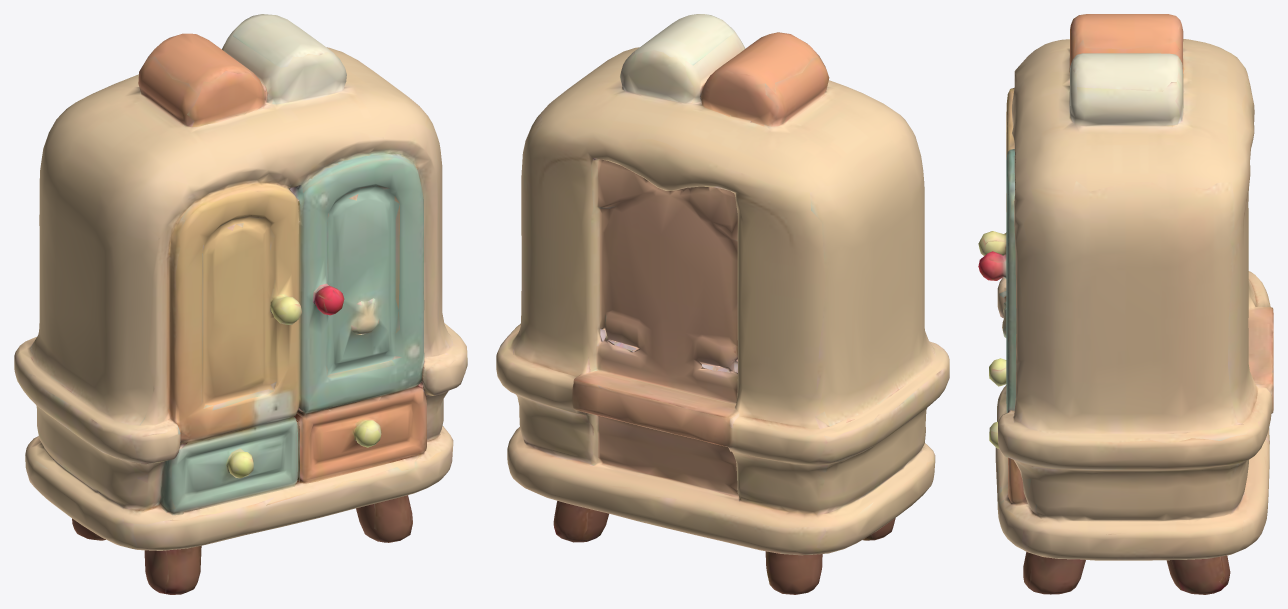
The model's file is Wardrobe_mini_cute.glb.
The picture shows the model from 3 angles, left to right: view 1: azimuth 30°, elevation 25°; view 2: azimuth 150°, elevation 25°; view 3: azimuth 270°, elevation 25°; orthographic projection.
Parts seen in each view (by area): view 1: Mesh_0; view 2: Mesh_0; view 3: Mesh_0.
Boxes of the visible parts, x1,y1,x2,y2 form: Mesh_0: [14, 14, 467, 594]; Mesh_0: [496, 14, 949, 594]; Mesh_0: [978, 14, 1273, 594].
Size of the model in its own units: 1.5 by 1.91 by 1.03.
Materials: 1 (1 with a texture image).
